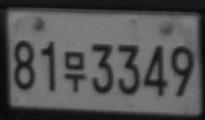1: (39, 40, 60, 90)
3: (117, 44, 141, 94), (91, 43, 114, 94)
4: (143, 44, 168, 96)
8: (13, 39, 35, 90)
9: (170, 45, 195, 96)
무: (64, 50, 86, 93)
